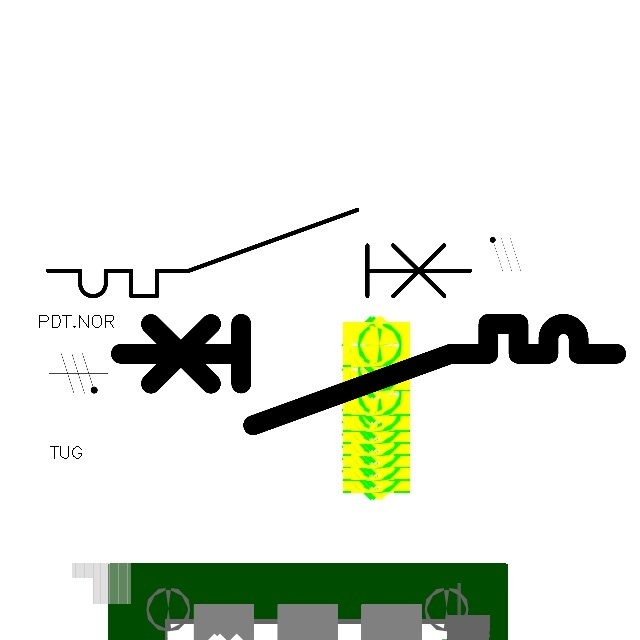interruptor_termomagnetico: (107, 311, 628, 438), (37, 199, 480, 307)
